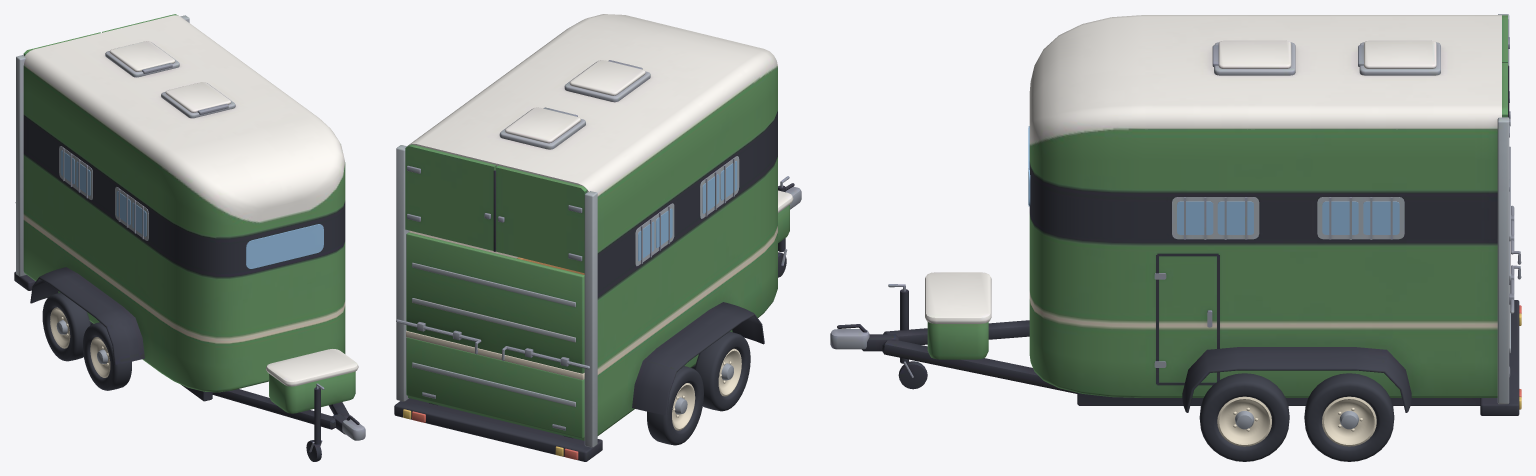
File: horse-trailer.glb
The picture shows the model from 3 angles, left to right: view 1: azimuth 30°, elevation 25°; view 2: azimuth 150°, elevation 25°; view 3: azimuth 270°, elevation 25°; orthographic projection. The views are drawn at different scales.
Parts seen in each view (by area): view 1: horse-trailer_body, horse-trailer_glass, horse-trailer_wheel_rr, horse-trailer_wheel_fr; view 2: horse-trailer_body, horse-trailer_ramp, horse-trailer_wheel_fr, horse-trailer_wheel_rr, horse-trailer_glass; view 3: horse-trailer_body, horse-trailer_wheel_rl, horse-trailer_wheel_fl, horse-trailer_glass, horse-trailer_ramp.
Part boxes in pixels (x1,y1,x2,y2): horse-trailer_body: (14,14,365,461); horse-trailer_glass: (60,150,323,268); horse-trailer_wheel_rr: (42,292,90,361); horse-trailer_wheel_fr: (82,322,131,390); horse-trailer_body: (394,14,801,461); horse-trailer_ramp: (396,232,589,438); horse-trailer_wheel_fr: (695,331,750,411); horse-trailer_wheel_rr: (647,366,703,445); horse-trailer_glass: (638,161,737,261); horse-trailer_body: (830,14,1521,415); horse-trailer_wheel_rl: (1304,373,1394,461); horse-trailer_wheel_fl: (1199,373,1289,461); horse-trailer_glass: (1028,126,1399,234); horse-trailer_ramp: (1509,146,1521,377).
Bounding box in the file's own units: 2.26 × 2.62 × 4.75.
15 materials, 2 textured.
